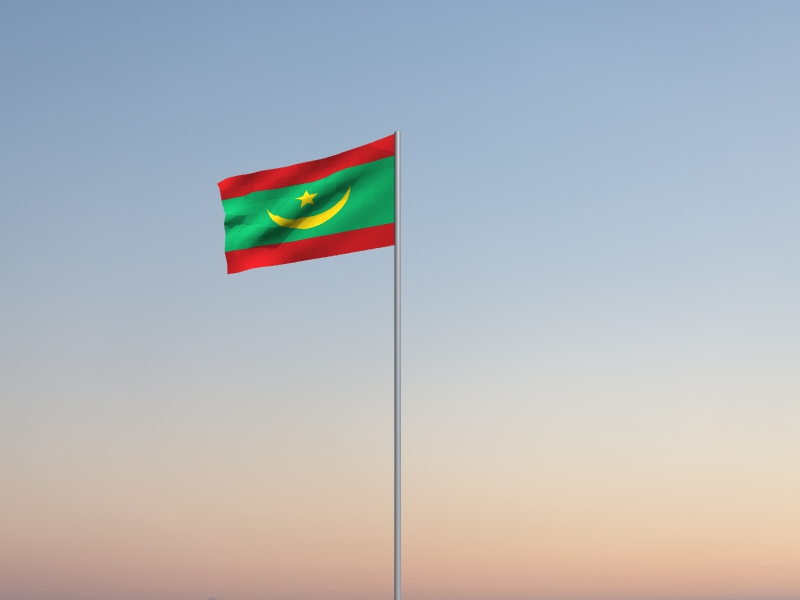mr: (217, 134, 395, 276)
